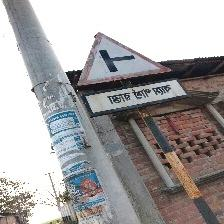Side-road-left: (77, 33, 189, 119)
